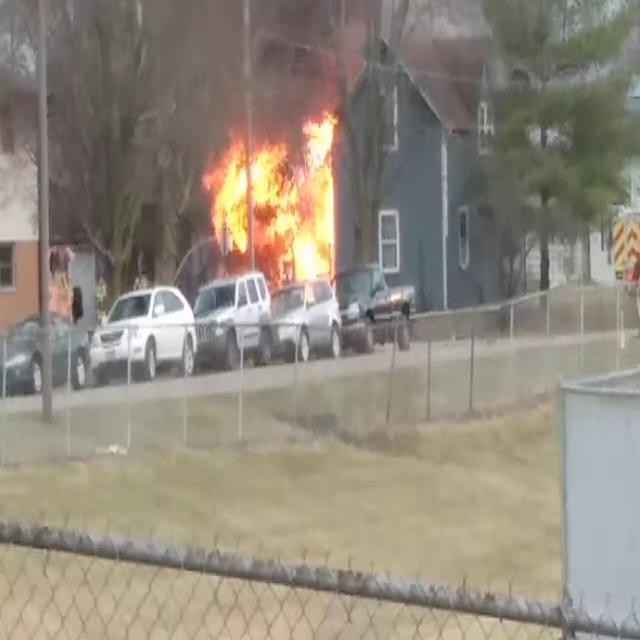Fire: (200, 109, 346, 282)
